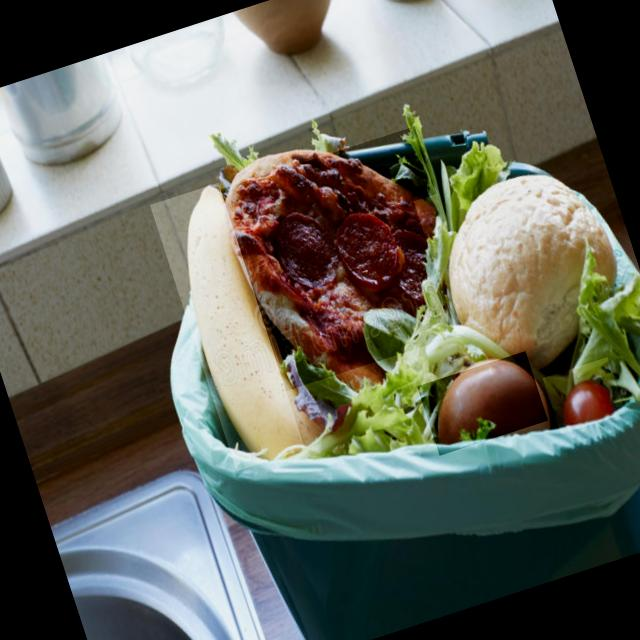Food waste: (216, 126, 479, 392), (414, 148, 635, 368), (150, 183, 306, 472), (417, 351, 548, 456), (543, 357, 626, 434)
